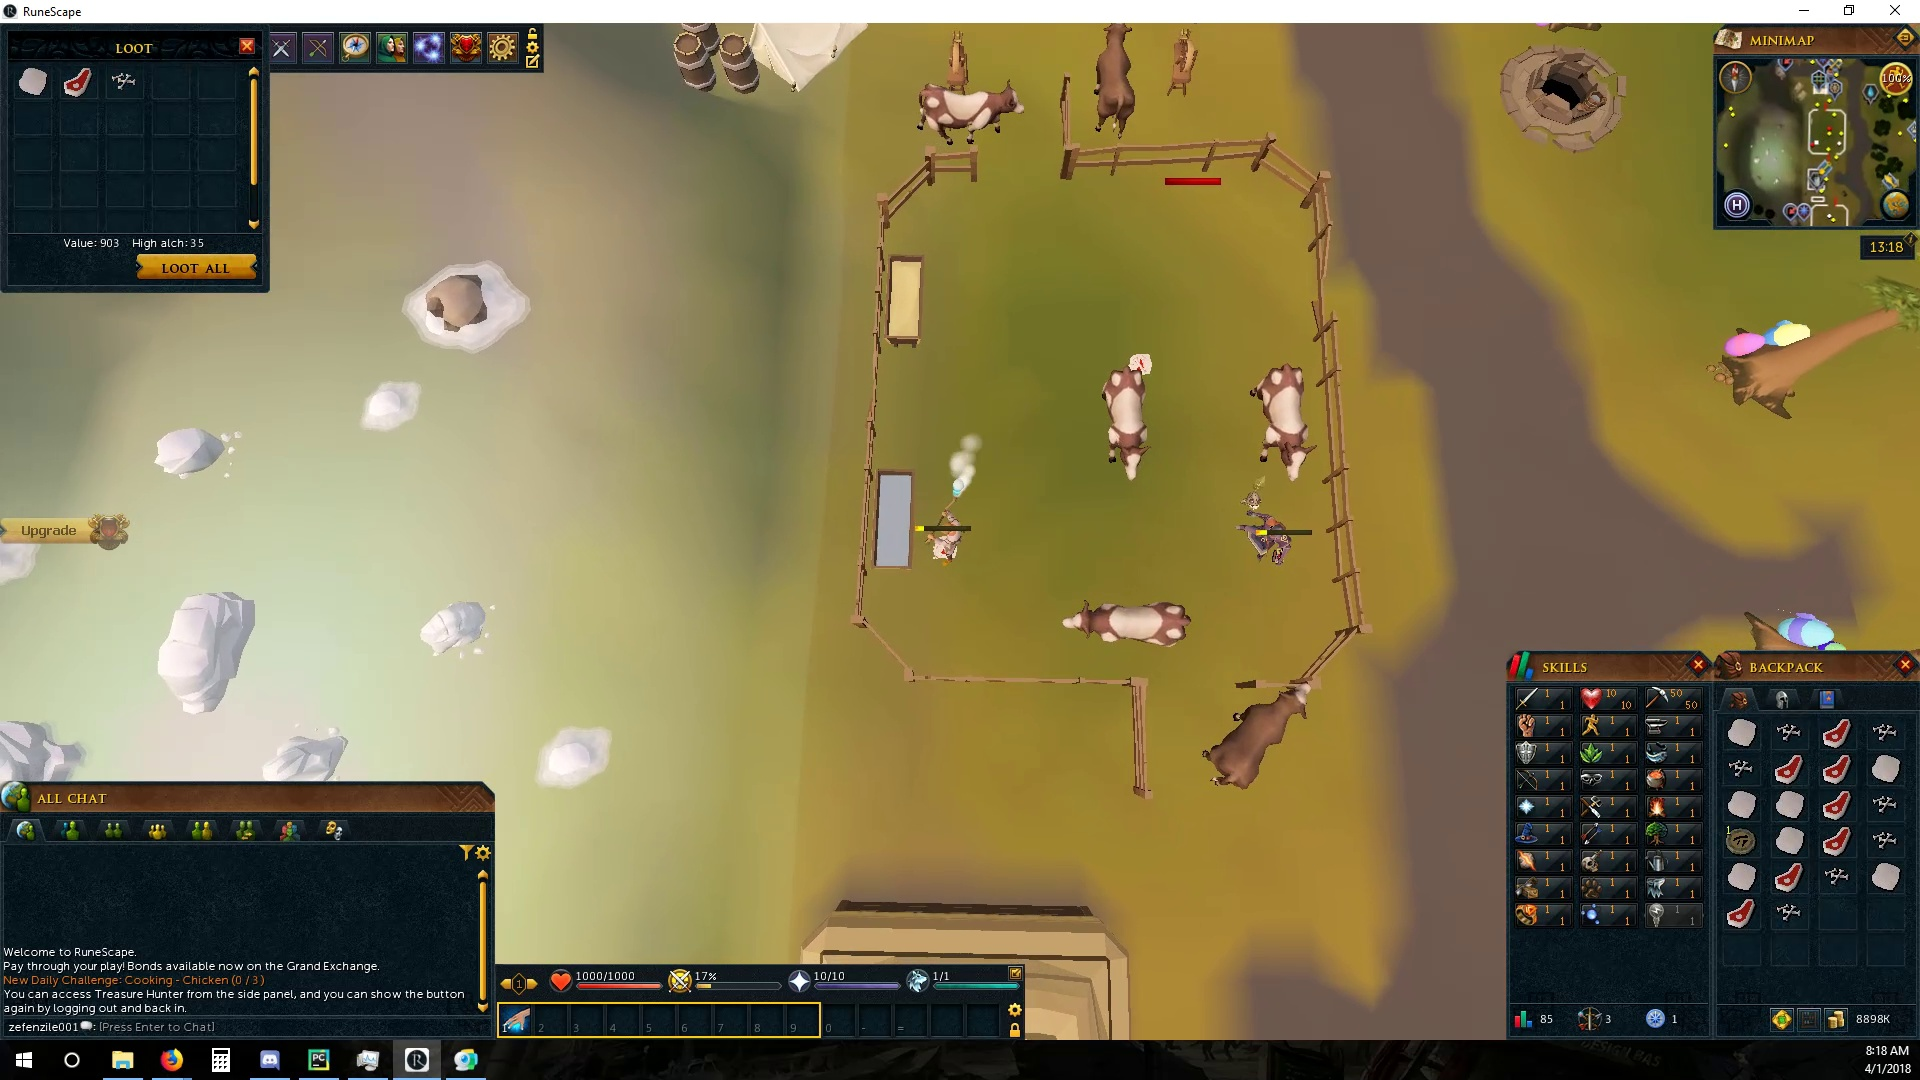cow: (1196, 686, 1313, 791), (1245, 359, 1316, 484), (1062, 595, 1197, 657), (910, 78, 1026, 145), (1097, 363, 1153, 483), (1087, 22, 1142, 138)
cow_drop: (1127, 349, 1158, 380)
